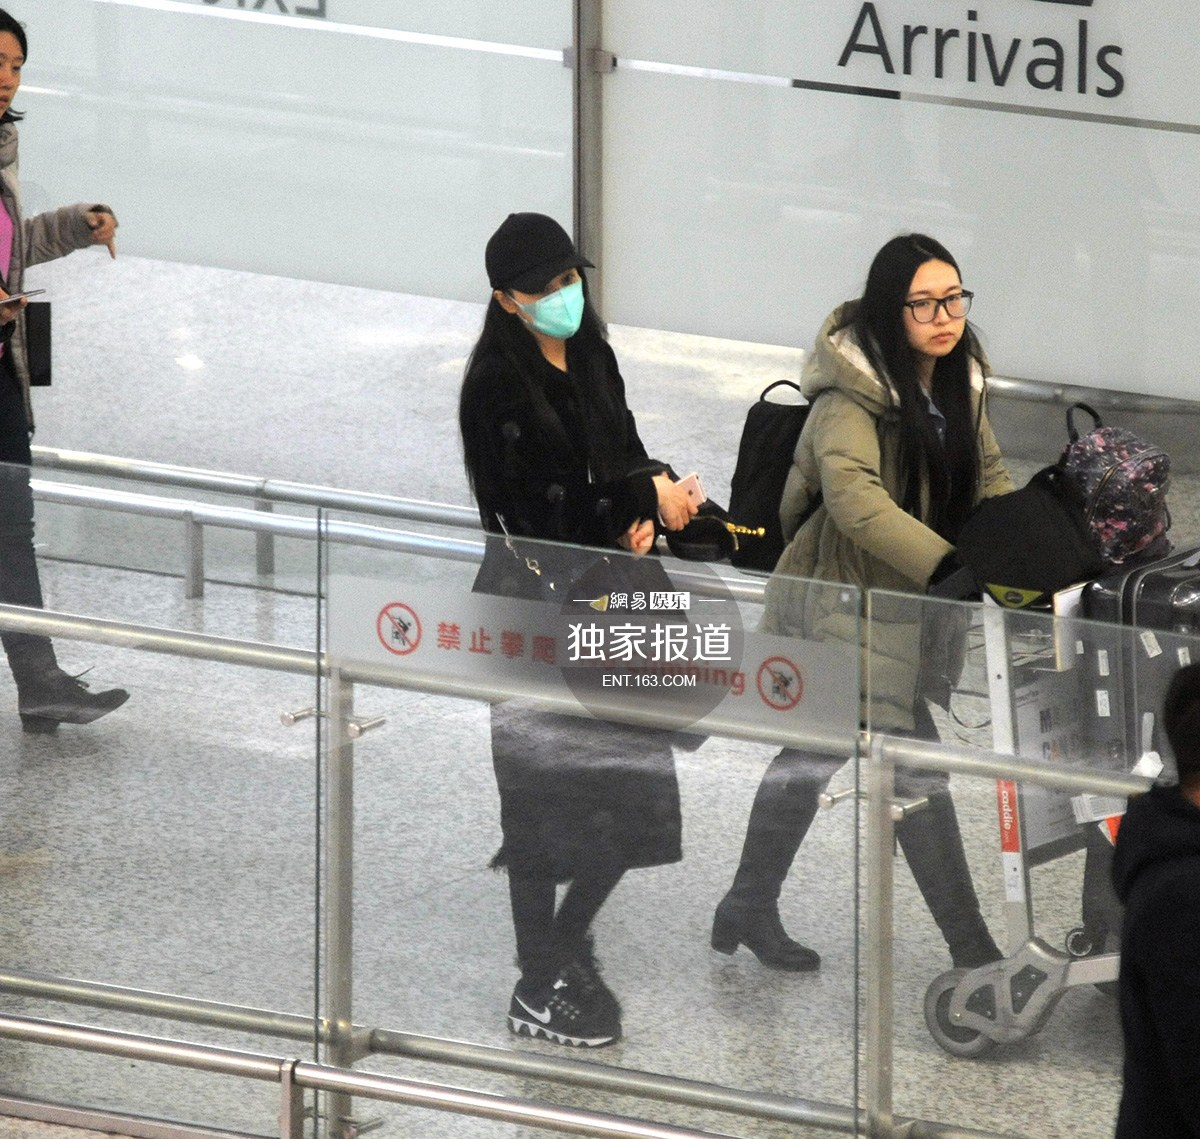face: (906, 266, 965, 352), (1, 34, 26, 116)
face_mask: (529, 262, 581, 343)
